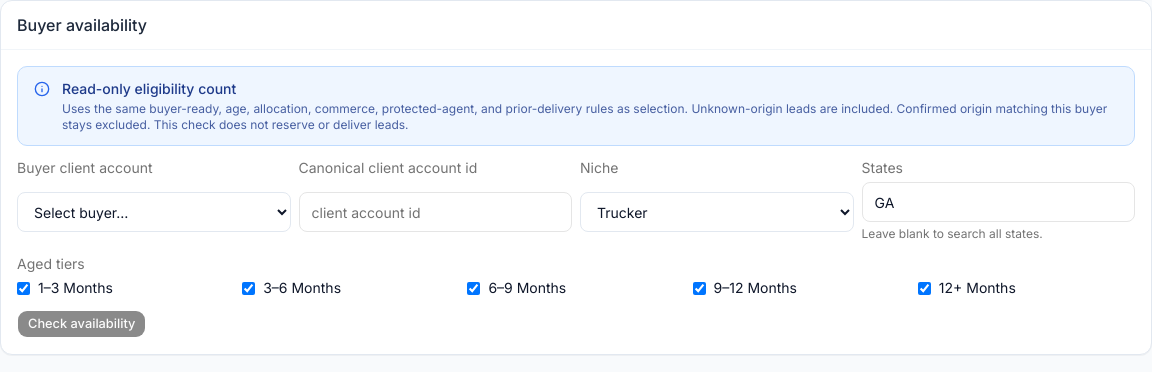
Test: BuyerAvailabilityPanel › explains when another count is already running
In the field with test id "buyer-availability-client-id": {"x": 435, "y": 212} [298,192,572,232], type "client_jr_laird"
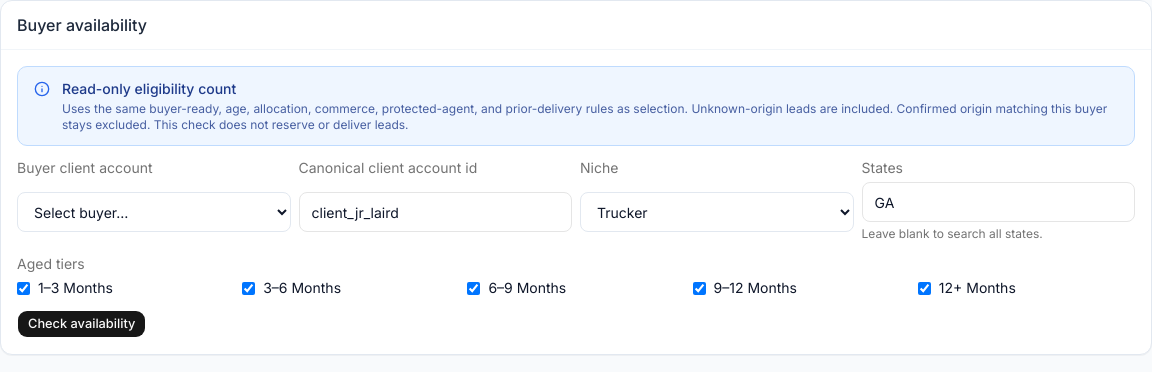
Click the button with test id "buyer-availability-submit": {"x": 82, "y": 324} [17,310,146,338]
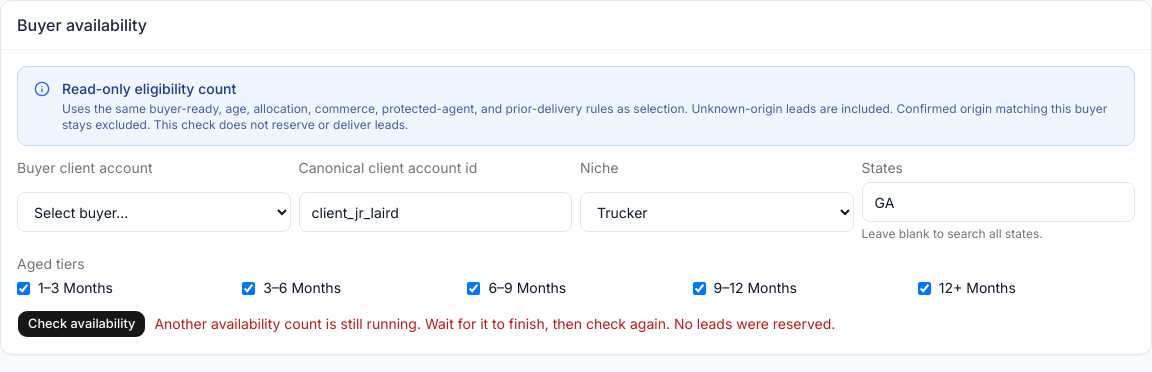
Expected: the text with test id "buyer-availability-error" shows "Another availability count is still running", [154,315,835,332]
Expected: the text with test id "buyer-availability-error" shows "No leads were reserved", [154,315,835,332]
